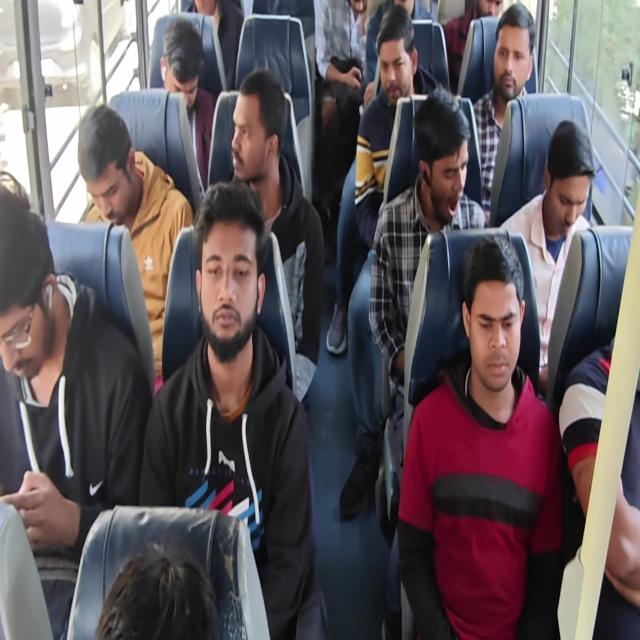person: (1, 1, 638, 638), (138, 180, 326, 638), (0, 183, 152, 637), (396, 233, 564, 638), (367, 84, 488, 524), (327, 5, 439, 355), (77, 103, 194, 394), (228, 69, 326, 403), (498, 118, 596, 399), (558, 335, 639, 638), (471, 2, 536, 219), (95, 543, 221, 639), (314, 0, 371, 201), (159, 16, 217, 193), (363, 0, 437, 105), (442, 0, 503, 92), (183, 0, 244, 91)
